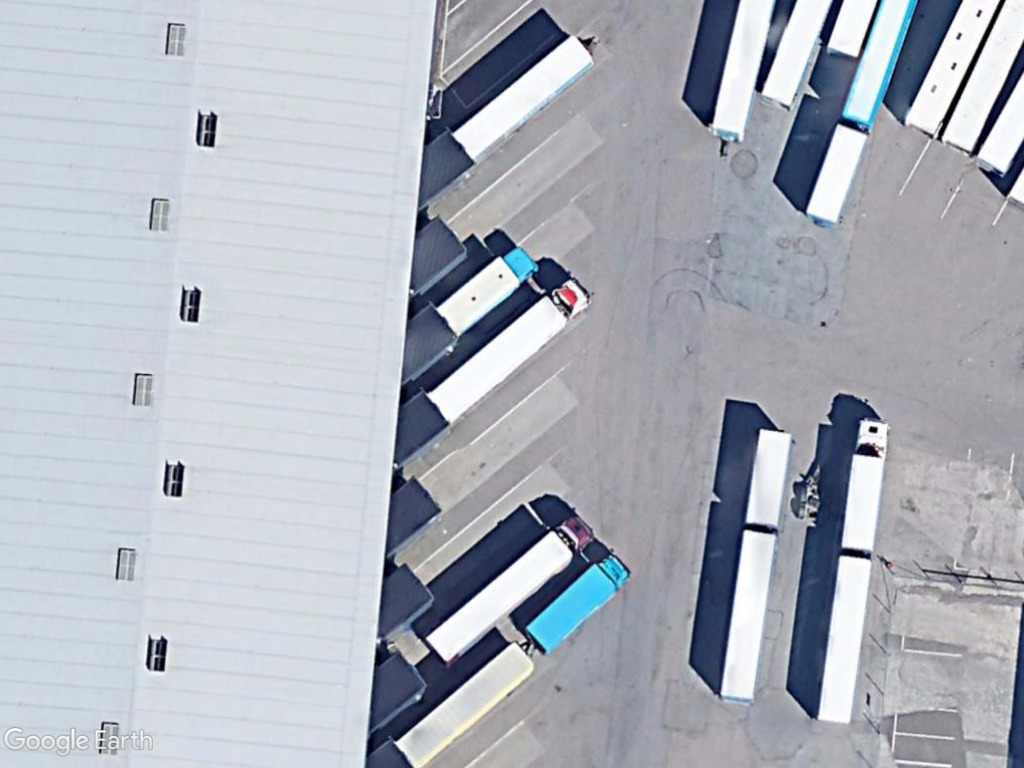longvehicle: (415, 505, 599, 674), (414, 273, 592, 425)
truck: (519, 548, 635, 660), (431, 243, 540, 342), (827, 406, 897, 558)
